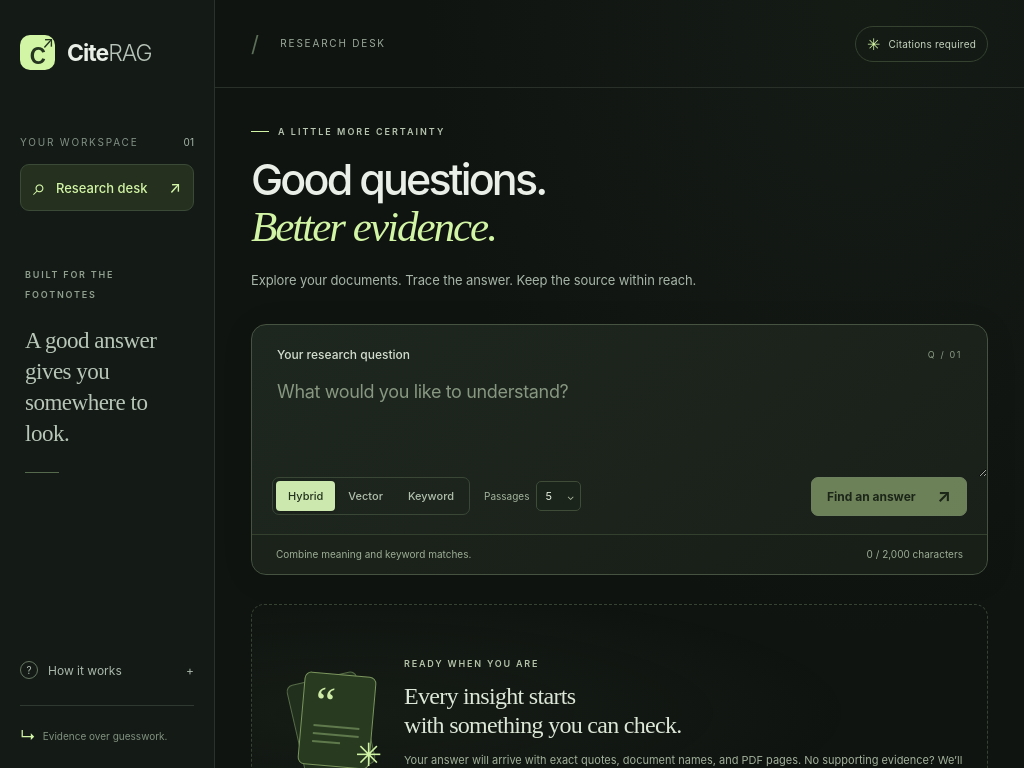
research workspace › shows a refusal without citation cards
Type "A synthetic question" into the text box labelled "Your research question" at (620, 420), box [252,362,987,477]
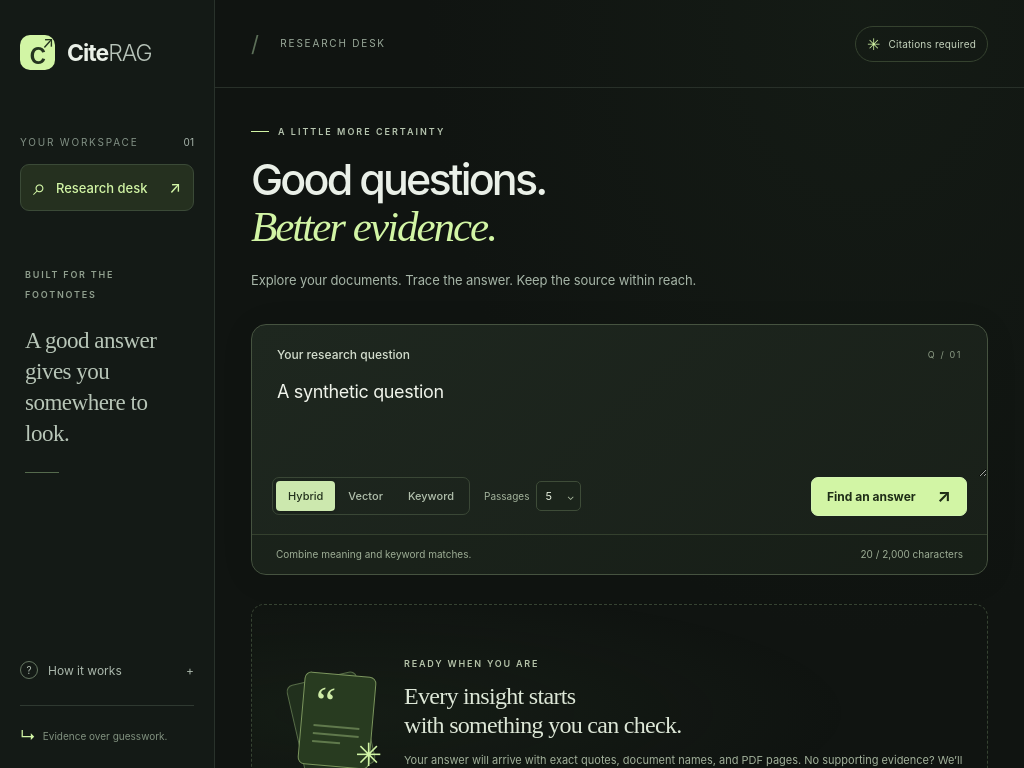
Click the button "Find an answer ↗" at (889, 496), box [811,477,967,516]
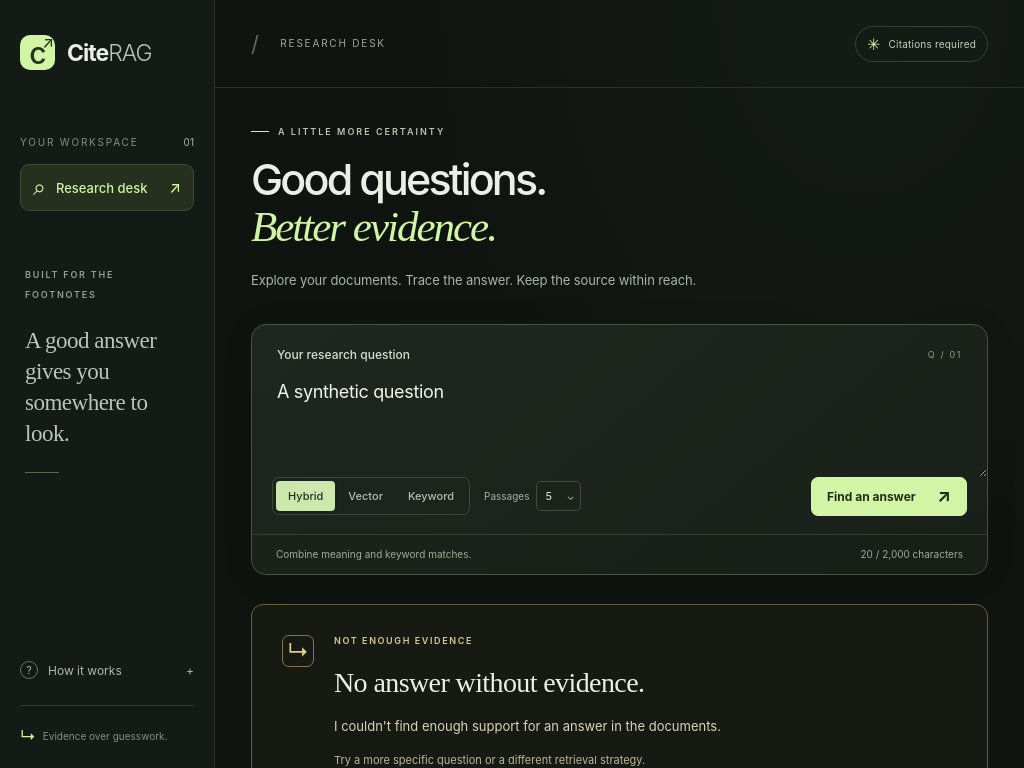
expect the text "I couldn't find enough support for an answer in the documents." is shown: met, box [334,714,721,738]
expect the heading "No answer without evidence." is shown: met, box [334,667,644,698]
